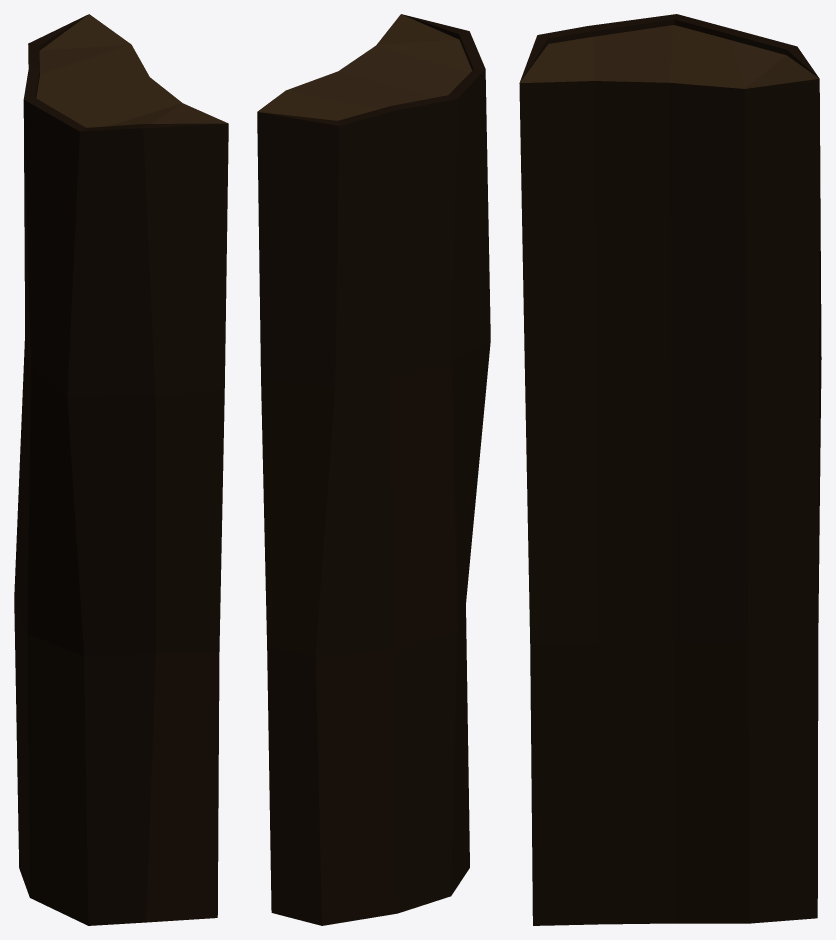
The model's file is CutLog04_FBX.fbx.
The picture shows the model from 3 angles, left to right: view 1: azimuth 30°, elevation 25°; view 2: azimuth 150°, elevation 25°; view 3: azimuth 270°, elevation 25°; orthographic projection. The views are drawn at different scales.
Visible parts, largest first — view 1: CUT LOG 4; view 2: CUT LOG 4; view 3: CUT LOG 4.
Boxes of the visible parts, x1,y1,x2,y2 form: CUT LOG 4: (14, 14, 228, 925); CUT LOG 4: (257, 14, 490, 925); CUT LOG 4: (519, 14, 821, 925).
Bounding box in the file's own units: 14.02 × 77.7 × 24.75.
